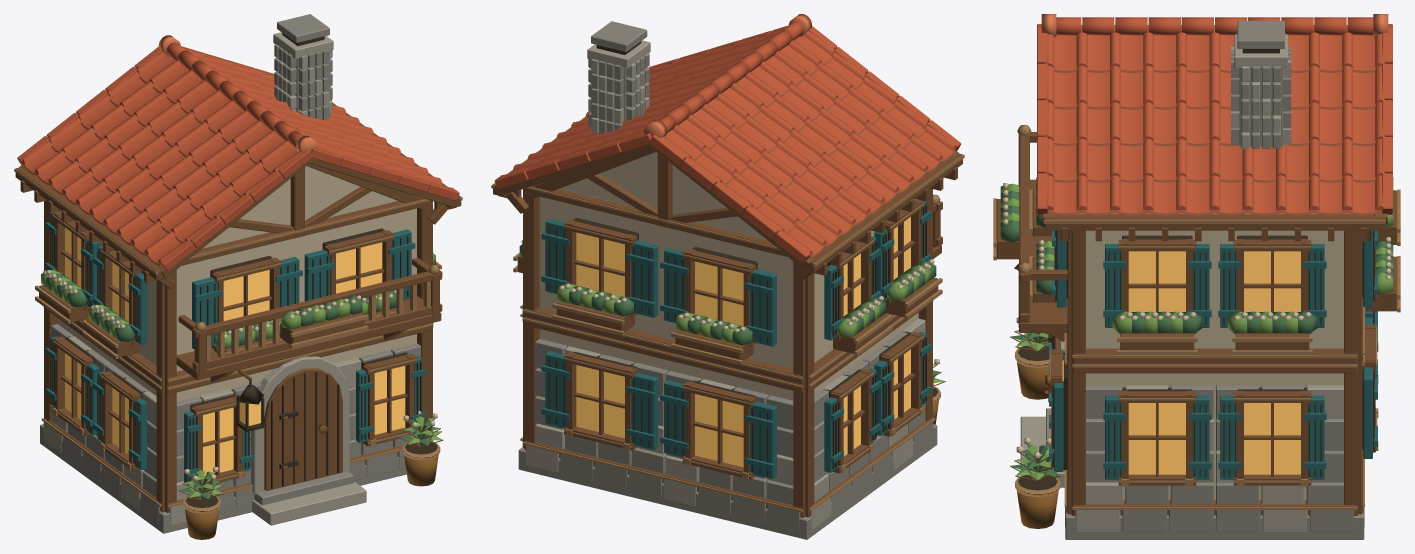
3 renders of one model, left to right at view 1: azimuth 30°, elevation 25°; view 2: azimuth 150°, elevation 25°; view 3: azimuth 270°, elevation 25°, orthographic. The views are drawn at different scales.
Visible parts, largest first — view 1: alpine_villa_2_geometry, alpine_villa_2_geometry ceramic; view 2: alpine_villa_2_geometry, alpine_villa_2_geometry ceramic; view 3: alpine_villa_2_geometry, alpine_villa_2_geometry ceramic.
Boxes of the visible parts, x1,y1,x2,y2 form: alpine_villa_2_geometry: (14, 14, 462, 539); alpine_villa_2_geometry ceramic: (17, 35, 459, 271); alpine_villa_2_geometry: (491, 21, 964, 539); alpine_villa_2_geometry ceramic: (494, 14, 961, 262); alpine_villa_2_geometry: (993, 21, 1400, 539); alpine_villa_2_geometry ceramic: (1037, 14, 1392, 215).
Size of the model in its own units: 0.99 by 1.15 by 0.886.
